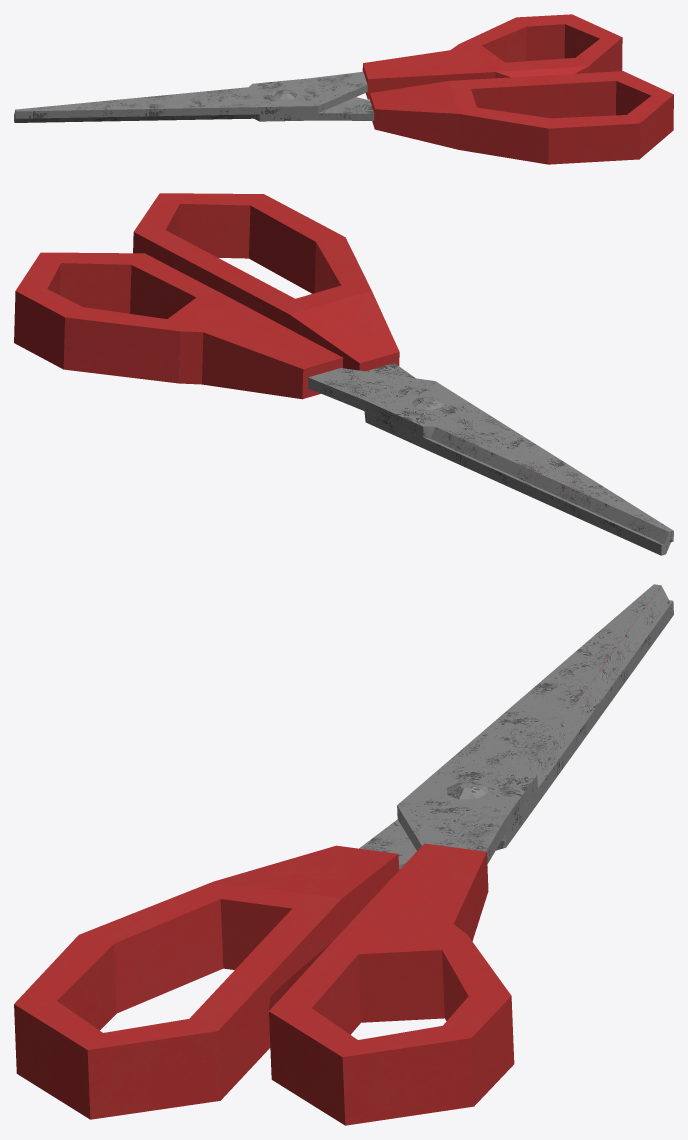
The model's file is Tijeras.fbx.
The picture shows the model from 3 angles, top to bottom: view 1: azimuth 30°, elevation 25°; view 2: azimuth 150°, elevation 25°; view 3: azimuth 270°, elevation 25°; orthographic projection. The views are drawn at different scales.
Visible parts, largest first — view 1: Tijeras; view 2: Tijeras; view 3: Tijeras.
Part boxes in pixels (bbox=[...]): Tijeras: bbox=[14, 14, 673, 164]; Tijeras: bbox=[14, 193, 673, 555]; Tijeras: bbox=[14, 584, 673, 1125].
Bounding box in the file's own units: 144 × 11.7 × 82.64.
Materials: 1 (1 with a texture image).
